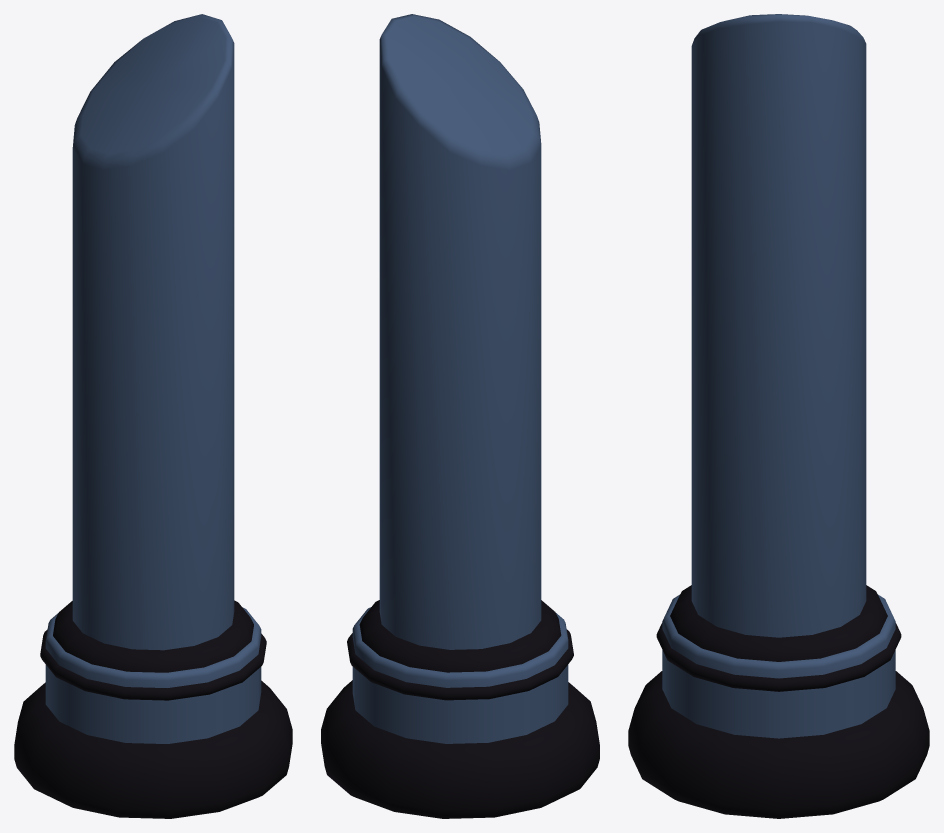
Rendered from column-3.obj.
The picture shows the model from 3 angles, left to right: view 1: azimuth 30°, elevation 25°; view 2: azimuth 150°, elevation 25°; view 3: azimuth 270°, elevation 25°; orthographic projection. The views are drawn at different scales.
Visible parts, largest first — view 1: Cylinder_Cylinder.005, Cylinder.003_Cylinder.004, Cylinder.004_Cylinder, Cylinder.001, Cylinder.002; view 2: Cylinder_Cylinder.005, Cylinder.003_Cylinder.004, Cylinder.004_Cylinder, Cylinder.001, Cylinder.002; view 3: Cylinder_Cylinder.005, Cylinder.003_Cylinder.004, Cylinder.004_Cylinder, Cylinder.001, Cylinder.002.
Part boxes in pixels (x1=…): Cylinder_Cylinder.005: x1=72, y1=14, x2=234, y2=650; Cylinder.003_Cylinder.004: x1=14, y1=680, x2=292, y2=818; Cylinder.004_Cylinder: x1=45, y1=607, x2=261, y2=743; Cylinder.001: x1=53, y1=600, x2=253, y2=672; Cylinder.002: x1=40, y1=629, x2=266, y2=700; Cylinder_Cylinder.005: x1=379, y1=14, x2=541, y2=649; Cylinder.003_Cylinder.004: x1=321, y1=680, x2=599, y2=818; Cylinder.004_Cylinder: x1=352, y1=607, x2=568, y2=743; Cylinder.001: x1=359, y1=600, x2=561, y2=672; Cylinder.002: x1=347, y1=629, x2=573, y2=700; Cylinder_Cylinder.005: x1=691, y1=14, x2=866, y2=637; Cylinder.003_Cylinder.004: x1=628, y1=671, x2=929, y2=818; Cylinder.004_Cylinder: x1=662, y1=594, x2=895, y2=738; Cylinder.001: x1=670, y1=585, x2=887, y2=661; Cylinder.002: x1=656, y1=623, x2=901, y2=691.
Size of the model in its own units: 1.03 by 2.95 by 1.03.
